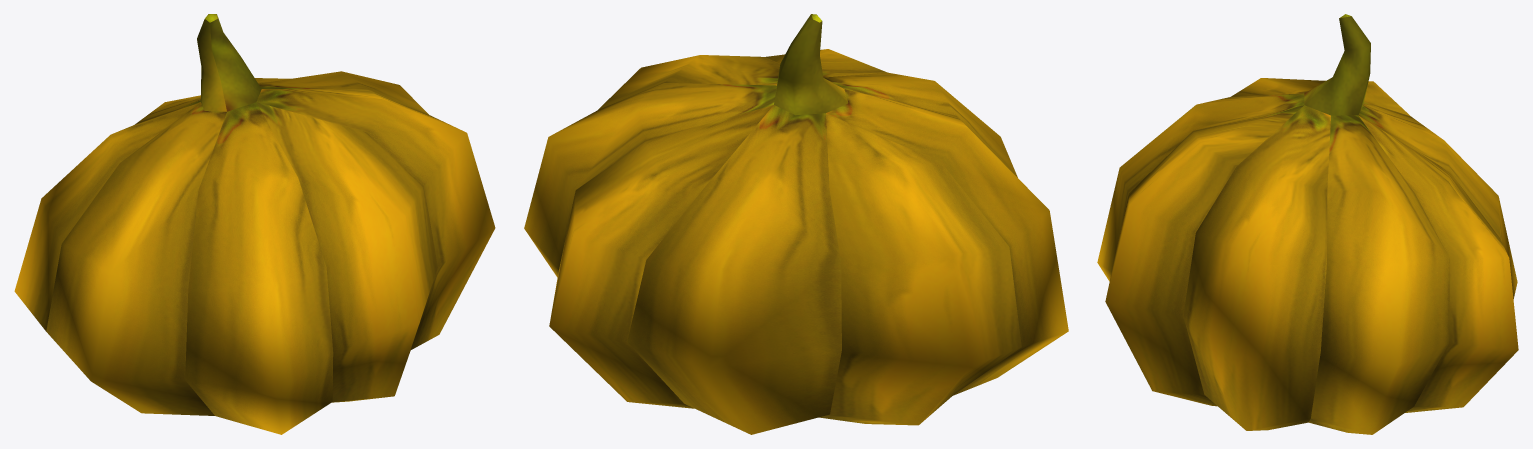
The model's file is ruraltown_pumpking_medium_02.fbx.
3 renders of one model, left to right at view 1: azimuth 30°, elevation 25°; view 2: azimuth 150°, elevation 25°; view 3: azimuth 270°, elevation 25°, orthographic. The views are drawn at different scales.
Parts seen in each view (by area): view 1: ruraltown_pumpking_medium_02; view 2: ruraltown_pumpking_medium_02; view 3: ruraltown_pumpking_medium_02.
Part boxes in pixels (<box>): ruraltown_pumpking_medium_02: <box>14,14,495,434</box>; ruraltown_pumpking_medium_02: <box>524,14,1068,434</box>; ruraltown_pumpking_medium_02: <box>1097,14,1518,434</box>.
Bounding box in the file's own units: 0.7015 × 0.5794 × 0.6133.
